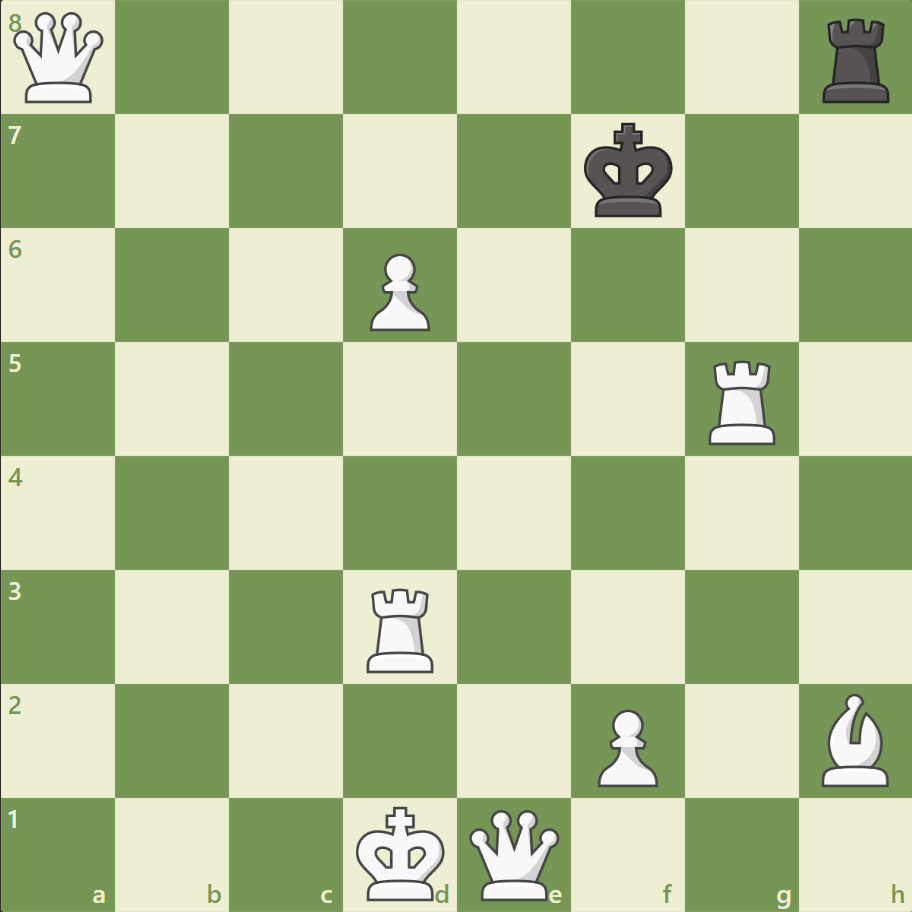B: (812, 687, 896, 790)
K: (351, 798, 451, 906)
P: (361, 246, 435, 337), (588, 700, 662, 791)
Q: (10, 9, 109, 108), (464, 804, 563, 903)
R: (700, 352, 783, 449), (360, 579, 442, 676)
k: (579, 117, 679, 225)
r: (814, 12, 897, 109)
